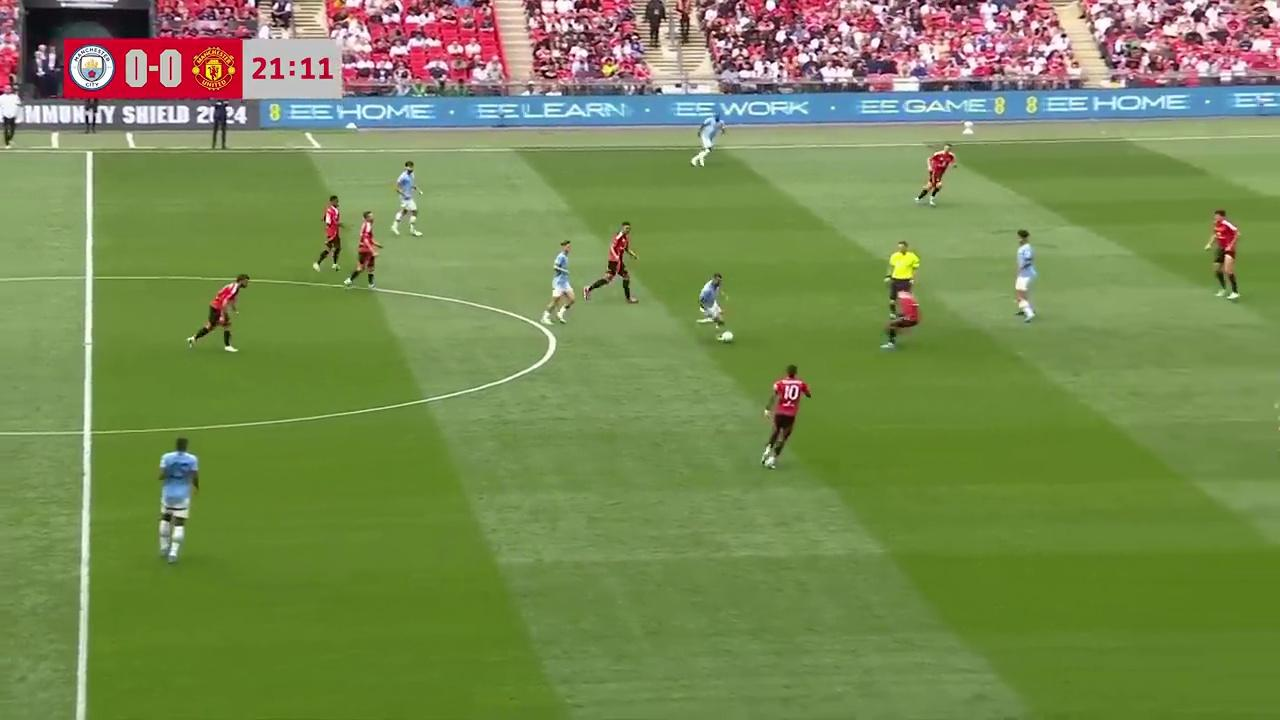ball: (722, 328, 734, 343)
player: (760, 364, 811, 469), (157, 436, 199, 561), (186, 274, 249, 353), (584, 222, 639, 303), (1204, 209, 1240, 299), (343, 215, 382, 290), (880, 284, 921, 349), (542, 246, 577, 322), (697, 272, 732, 343), (915, 146, 956, 206), (390, 163, 422, 237), (314, 195, 343, 272), (1014, 230, 1037, 320), (692, 110, 721, 166)
referee: (886, 240, 920, 311)
